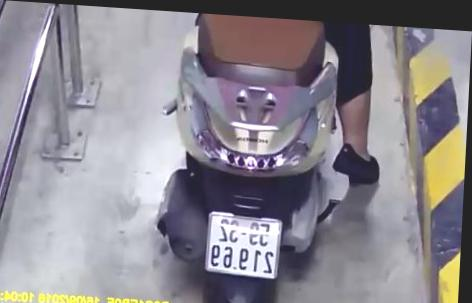License_Plate: (195, 206, 292, 283)
